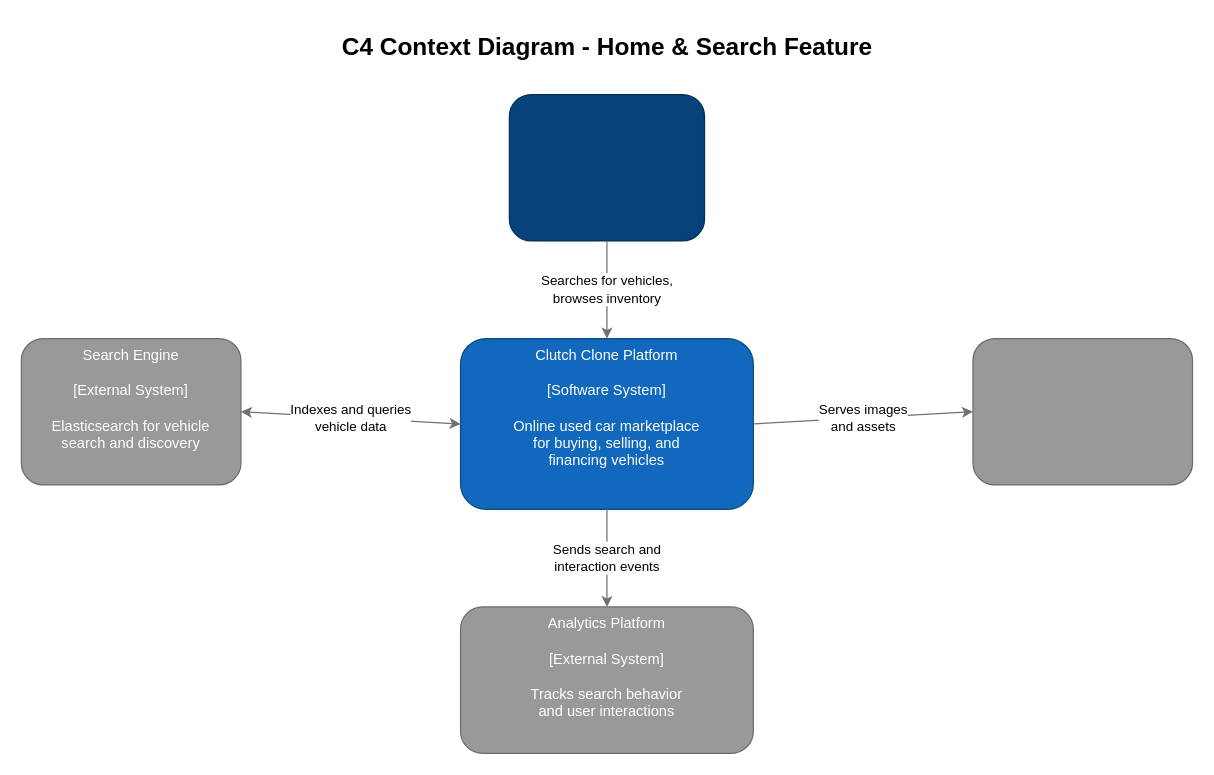
The diagram is 1214 pixels wide and 775 high, and some of its shapes have lost their labels. The centre of each missing label's shape, as x and y in pixels:
"Car Buyer [Person] A customer looking to buy a used car online" belongs at point 606,167.
"CDN [External System] Content delivery for images and static assets" belongs at point 1082,411.
